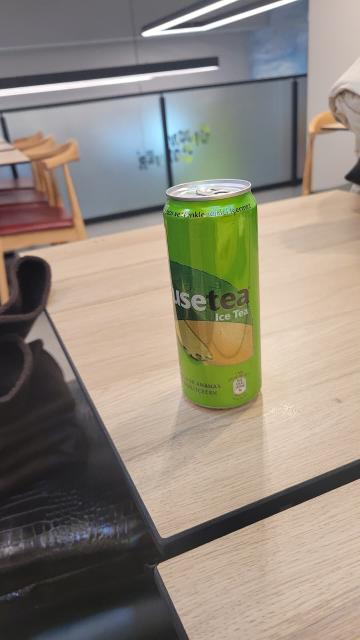Metal: (155, 175, 275, 413)
